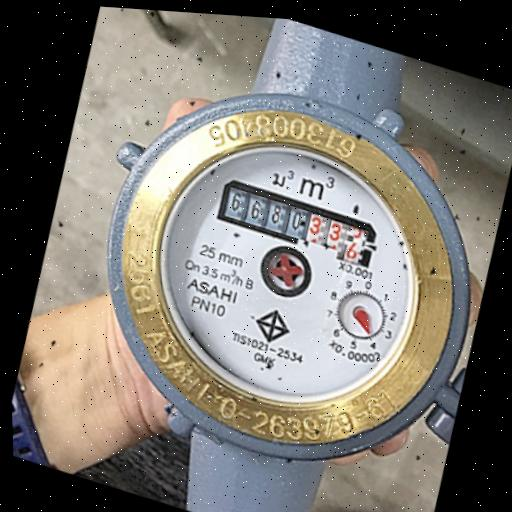0: (285, 205, 307, 239)
3: (323, 219, 346, 252), (304, 213, 326, 245)
6: (341, 224, 368, 267), (223, 187, 247, 221), (243, 193, 266, 227)
8: (264, 200, 286, 233)
border_water_meter_number: (214, 176, 381, 271)
